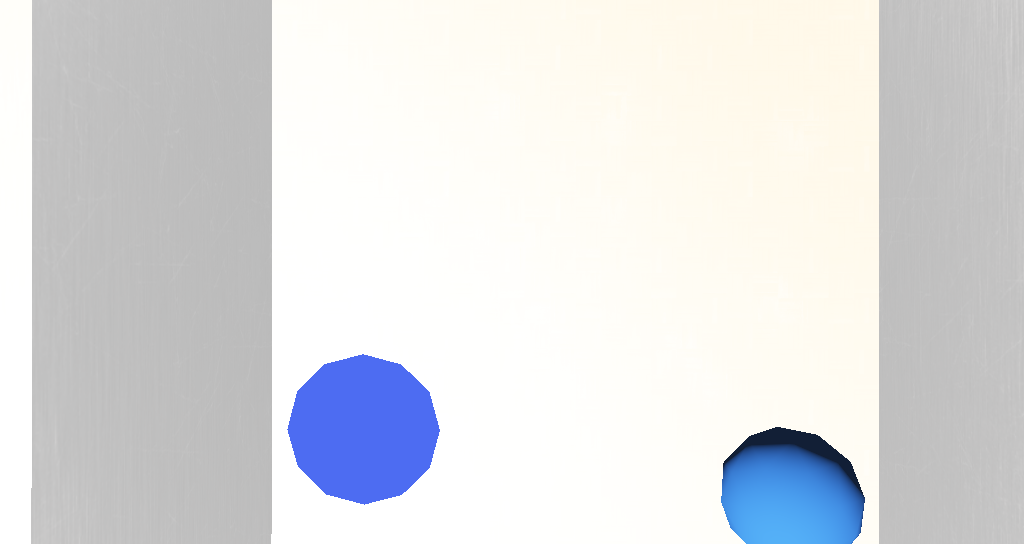cone: (724, 215, 798, 253)
cylinder: (377, 291, 445, 339)
sphere: (576, 322, 637, 365)
